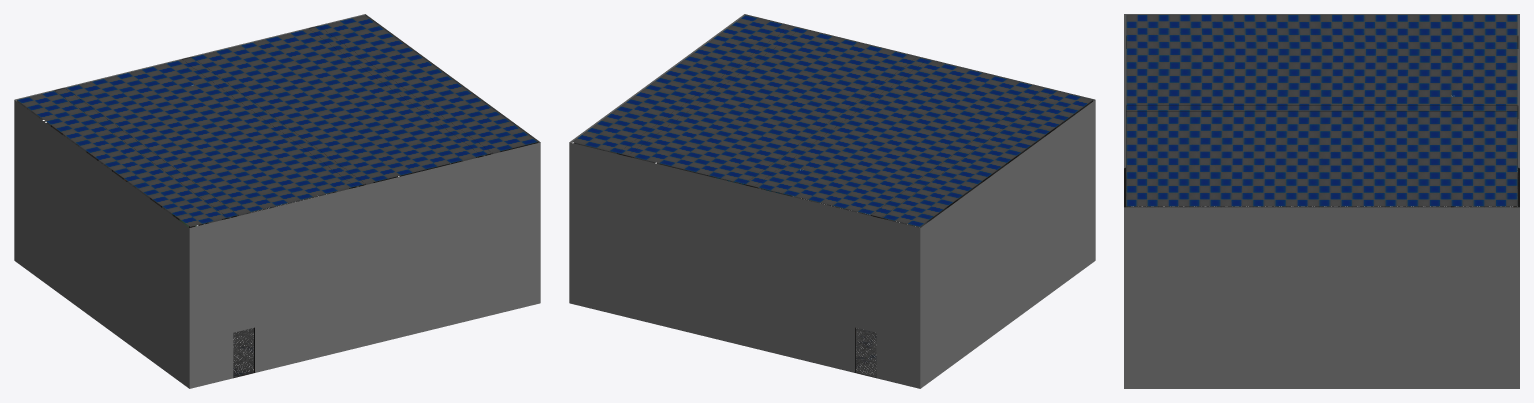
The model's file is Hab_Complet.fbx.
3 renders of one model, left to right at view 1: azimuth 30°, elevation 25°; view 2: azimuth 150°, elevation 25°; view 3: azimuth 270°, elevation 25°, orthographic. The views are drawn at different scales.
Parts seen in each view (by area): view 1: Ref_habitacion001; view 2: Ref_habitacion001; view 3: Ref_habitacion001.
Boxes of the visible parts, bbox=[...] form: Ref_habitacion001: bbox=[14, 14, 540, 388]; Ref_habitacion001: bbox=[569, 14, 1095, 388]; Ref_habitacion001: bbox=[1124, 14, 1519, 388].
Size of the model in its own units: 1603 by 706 by 1387.
